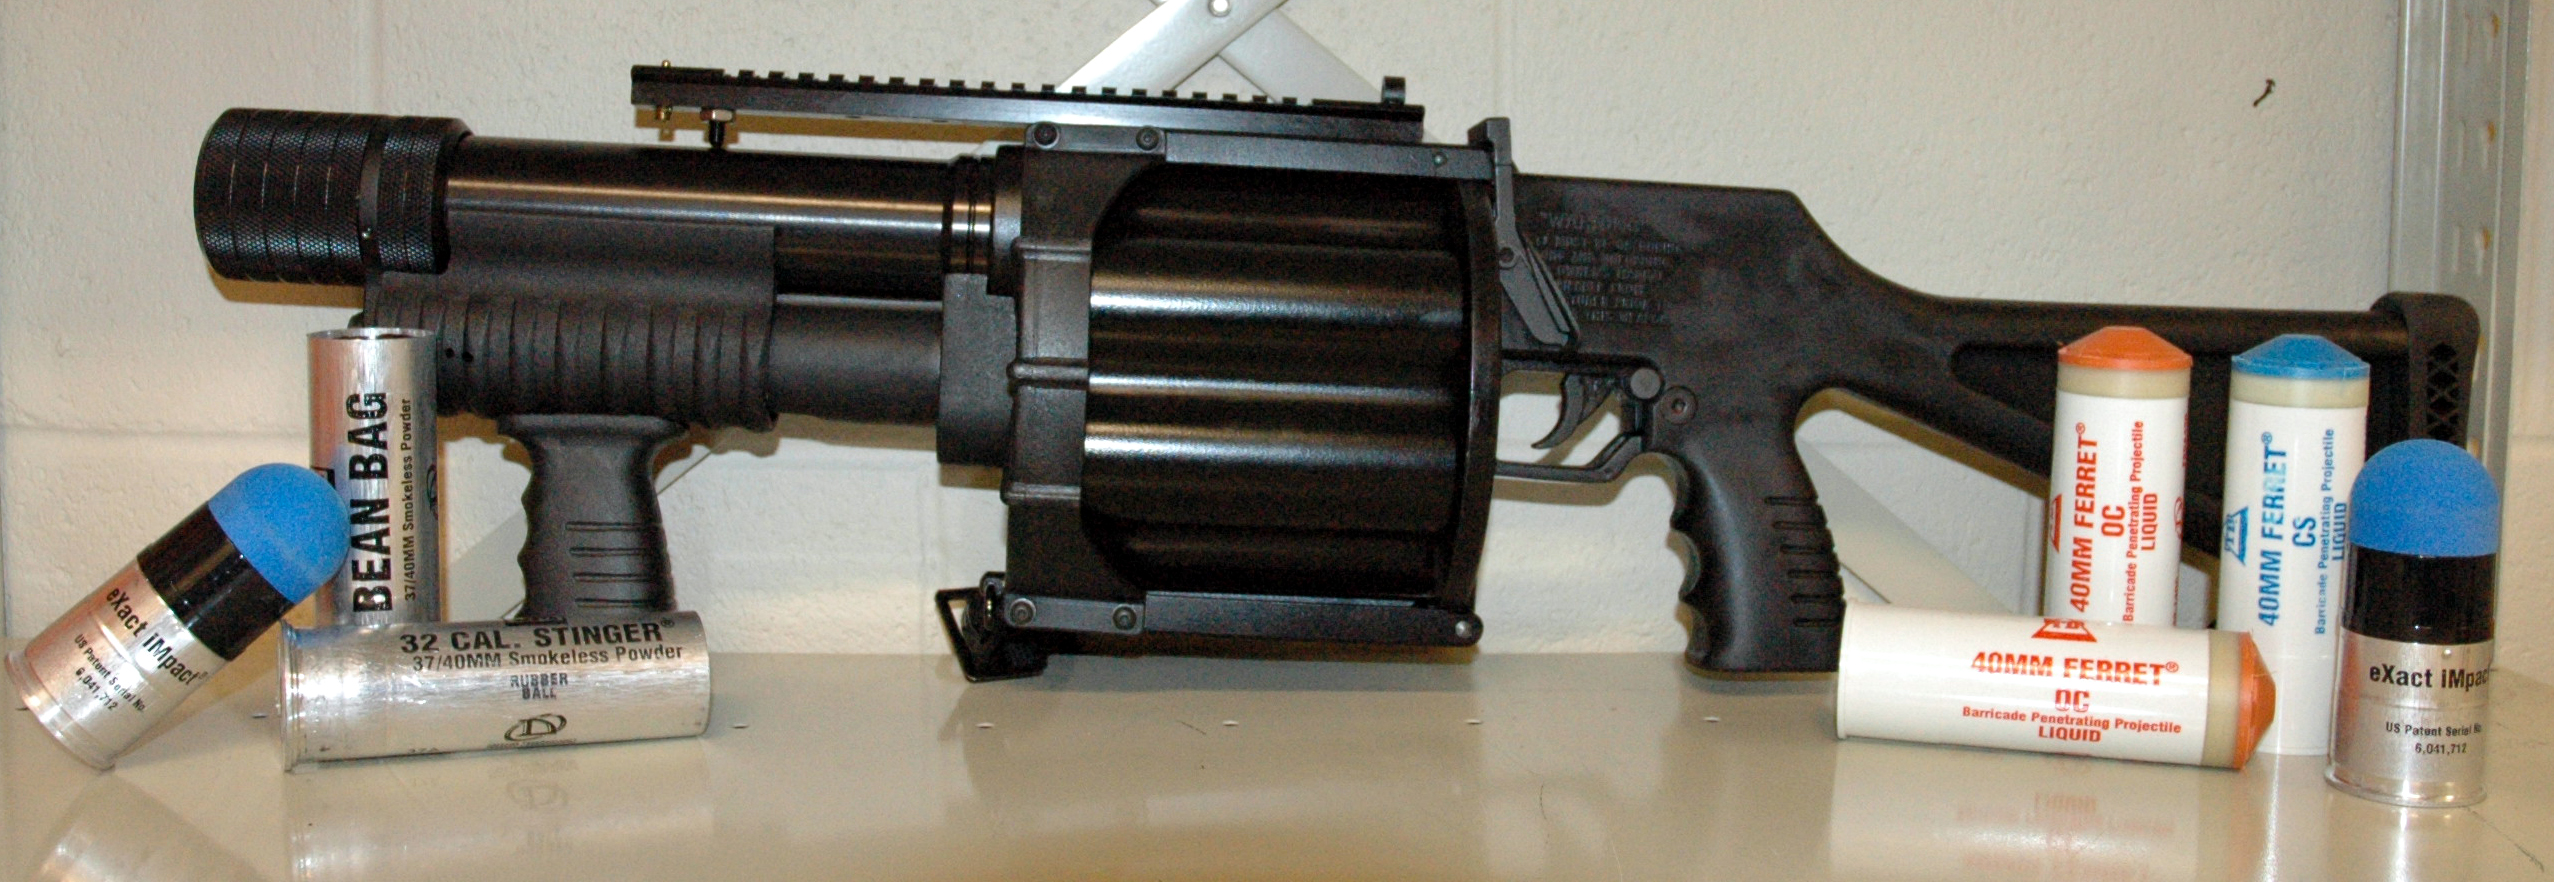rifle: (220, 106, 2487, 686)
